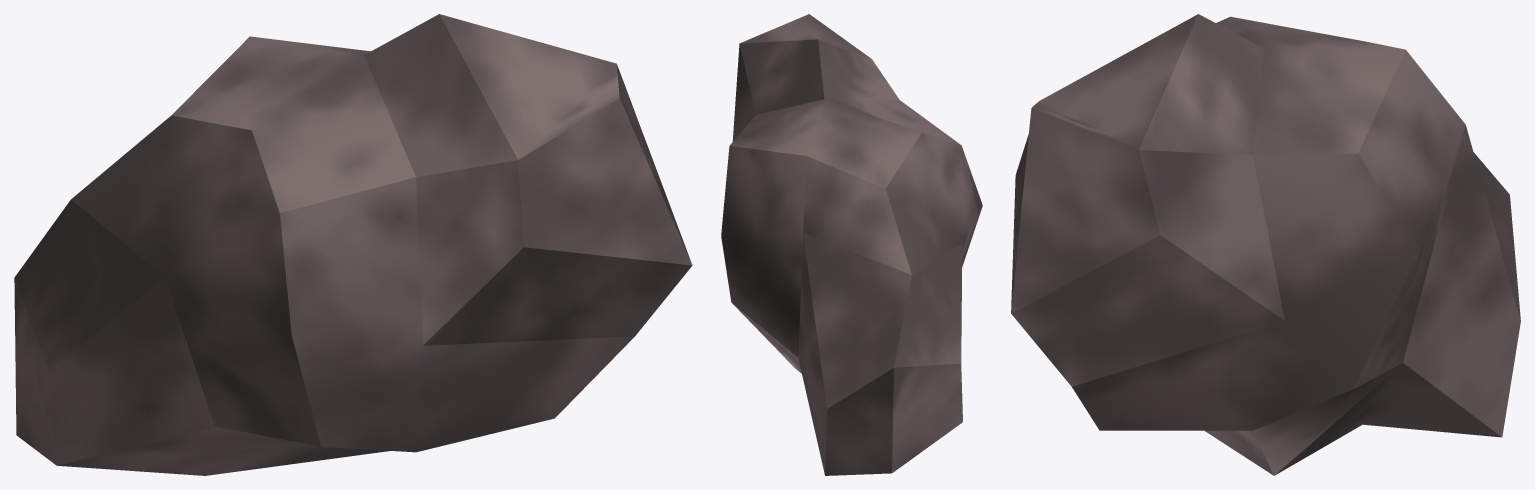
The model's file is MeteorSmall.fbx.
3 renders of one model, left to right at view 1: azimuth 30°, elevation 25°; view 2: azimuth 150°, elevation 25°; view 3: azimuth 270°, elevation 25°, orthographic. The views are drawn at different scales.
Visible parts, largest first — view 1: pCube1; view 2: pCube1; view 3: pCube1.
Boxes of the visible parts, x1=… form: pCube1: x1=14, y1=14, x2=692, y2=475; pCube1: x1=721, y1=14, x2=982, y2=475; pCube1: x1=1011, y1=14, x2=1520, y2=475.
Size of the model in its own units: 1.76 by 1.83 by 1.68.
